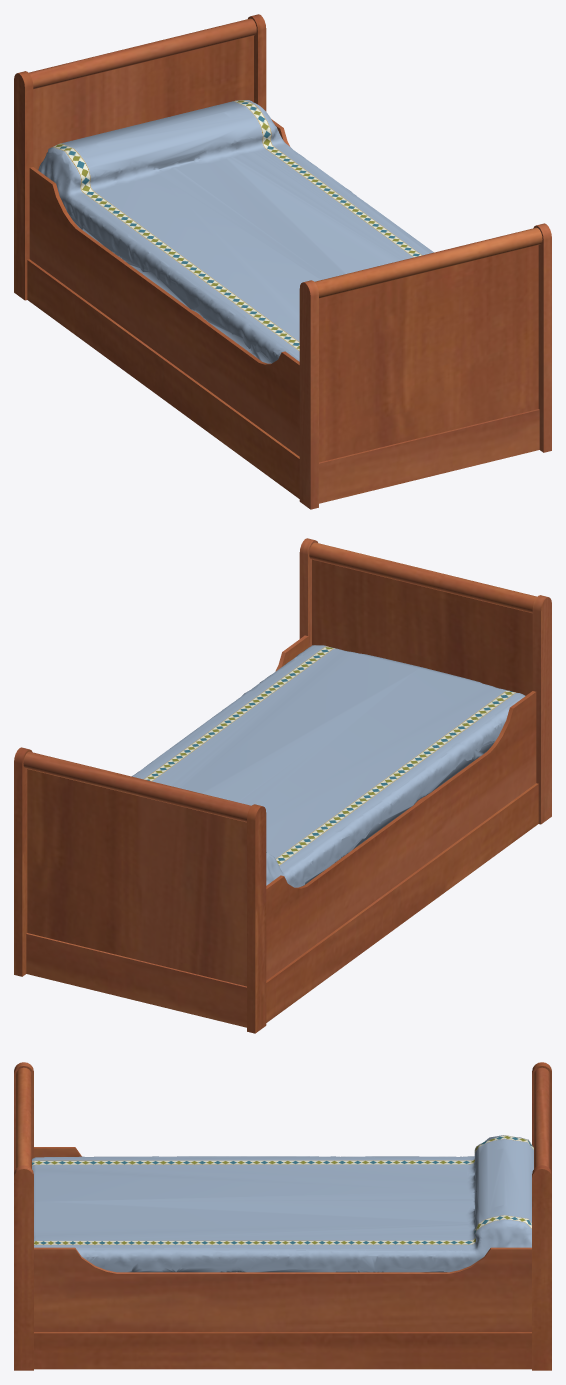
File: captains-bed.obj
3 renders of one model, top to bottom at view 1: azimuth 30°, elevation 25°; view 2: azimuth 150°, elevation 25°; view 3: azimuth 270°, elevation 25°, orthographic. The views are drawn at different scales.
Visible parts, largest first — view 1: Cylinder, mattress_Cube.001; view 2: Cylinder, mattress_Cube.001; view 3: Cylinder, mattress_Cube.001.
Part boxes in pixels (left/top/right/bottom): Cylinder: left=14, top=14, right=551, bottom=509; mattress_Cube.001: left=38, top=100, right=433, bottom=363; Cylinder: left=14, top=538, right=551, bottom=1033; mattress_Cube.001: left=131, top=645, right=525, bottom=887; Cylinder: left=14, top=1062, right=551, bottom=1370; mattress_Cube.001: left=32, top=1135, right=533, bottom=1272.
Bounding box in the file's own units: 98.23 × 86.61 × 209.
